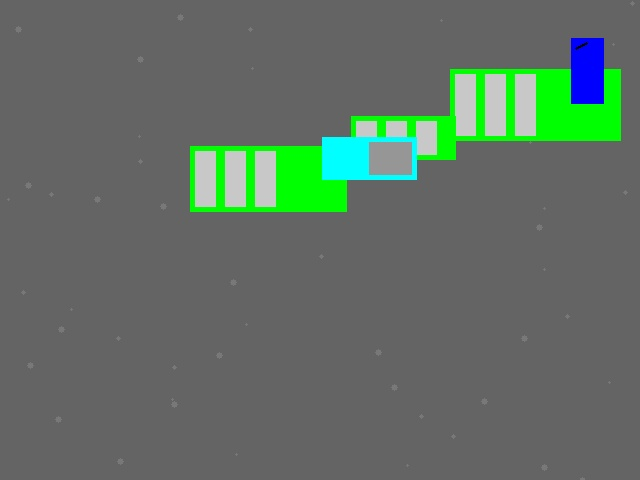bus: (450, 69, 620, 140), (190, 146, 346, 211), (351, 116, 455, 159)
motorcycle: (571, 38, 603, 103)
truck: (322, 137, 416, 179)
